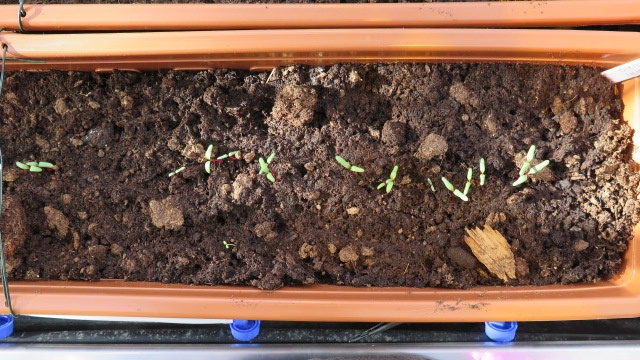crop: (511, 156, 558, 193), (441, 171, 469, 203), (515, 146, 543, 176), (247, 149, 282, 170), (332, 154, 368, 173), (256, 154, 278, 183), (199, 141, 217, 176), (15, 158, 62, 169), (475, 156, 489, 187), (463, 163, 475, 198), (12, 164, 46, 176), (163, 164, 190, 178), (386, 166, 399, 195), (219, 147, 238, 166), (372, 182, 415, 190), (425, 172, 439, 194)
